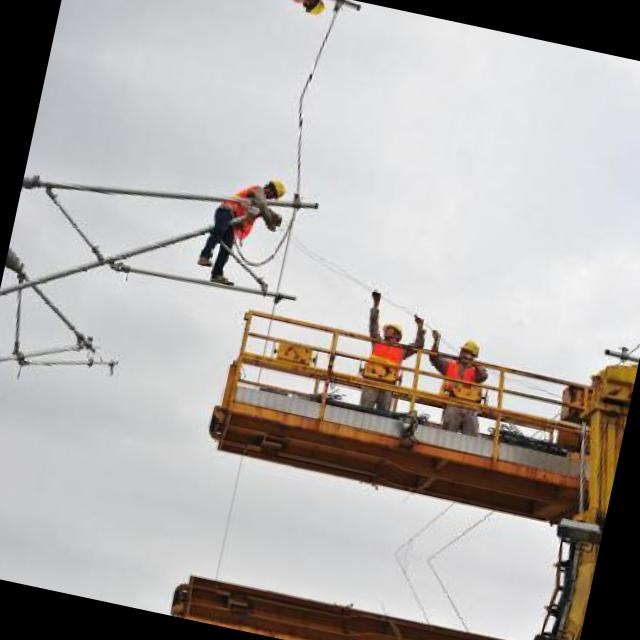helmet: (258, 170, 288, 202), (456, 334, 483, 366), (382, 318, 408, 346), (296, 0, 326, 21)
